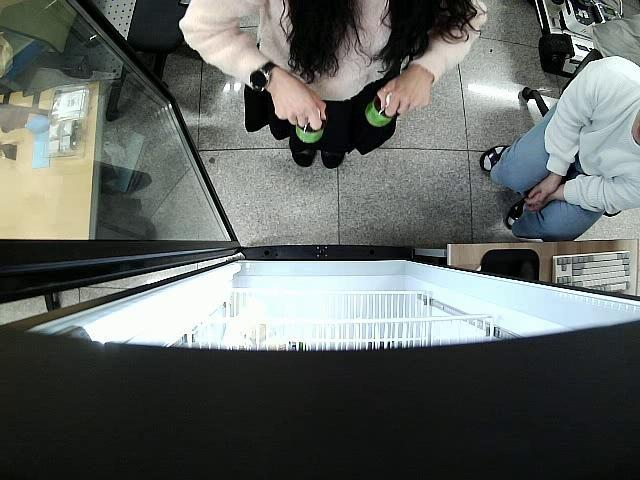19_17cha: (294, 104, 325, 145), (364, 92, 398, 128)
